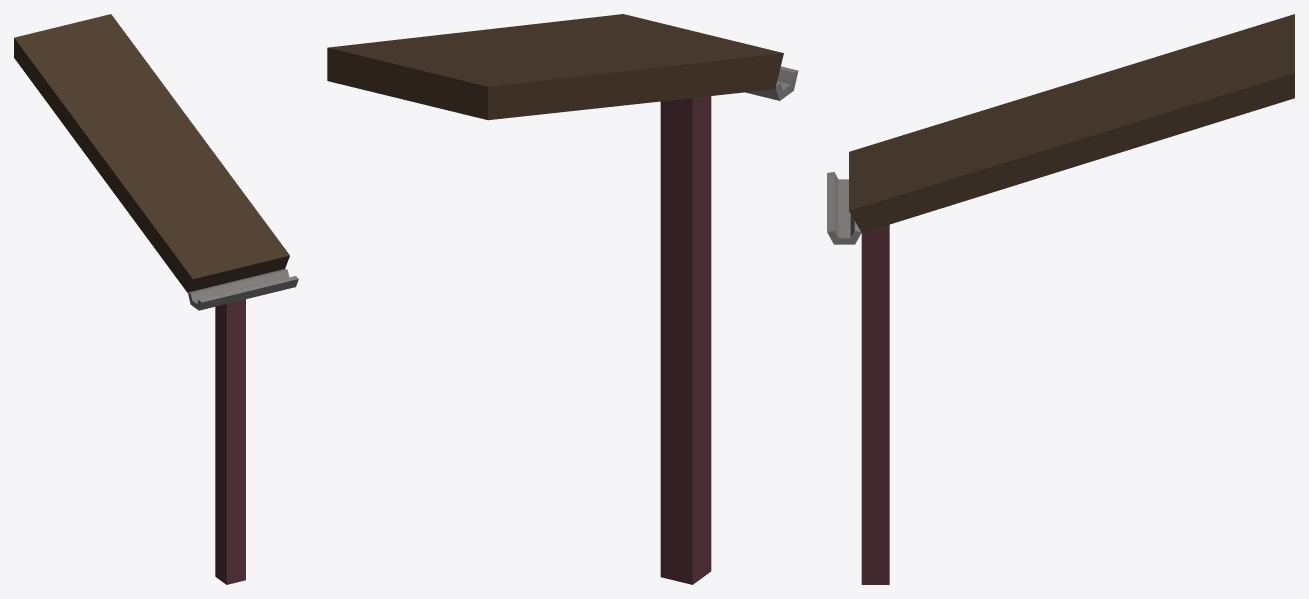
Rendered from house-roof-porch-edge-1x1m.fbx.
The picture shows the model from 3 angles, left to right: view 1: azimuth 30°, elevation 25°; view 2: azimuth 150°, elevation 25°; view 3: azimuth 270°, elevation 25°; orthographic projection. The views are drawn at different scales.
Visible parts, largest first — view 1: house-roof-porch-edge-1x1m; view 2: house-roof-porch-edge-1x1m; view 3: house-roof-porch-edge-1x1m.
Boxes of the visible parts, left/top/right/bottom form: house-roof-porch-edge-1x1m: left=14, top=14, right=298, bottom=584; house-roof-porch-edge-1x1m: left=327, top=14, right=798, bottom=584; house-roof-porch-edge-1x1m: left=827, top=14, right=1294, bottom=584.
Size of the model in its own units: 1 by 4.23 by 3.35.
